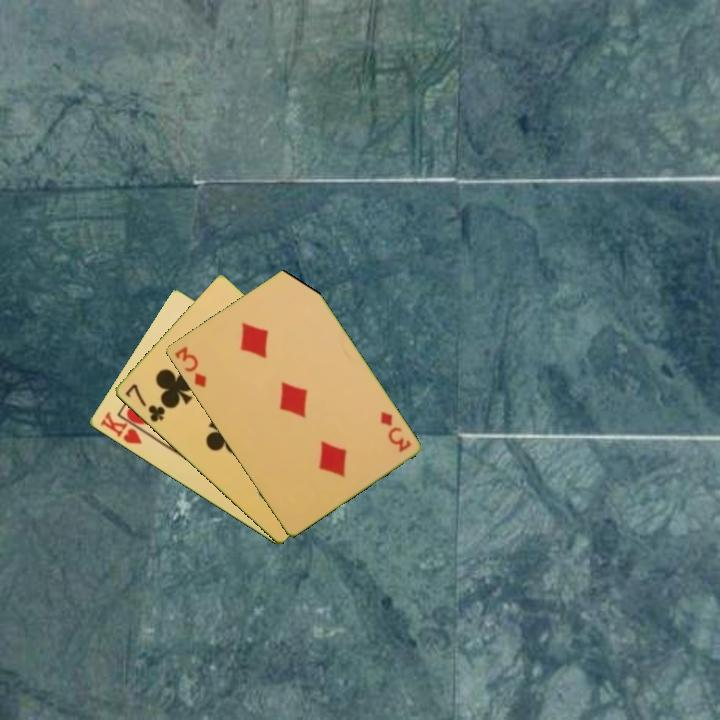3d: (171, 342, 209, 391), (376, 407, 414, 455)
7c: (121, 380, 168, 425)
Kh: (96, 408, 152, 447)
